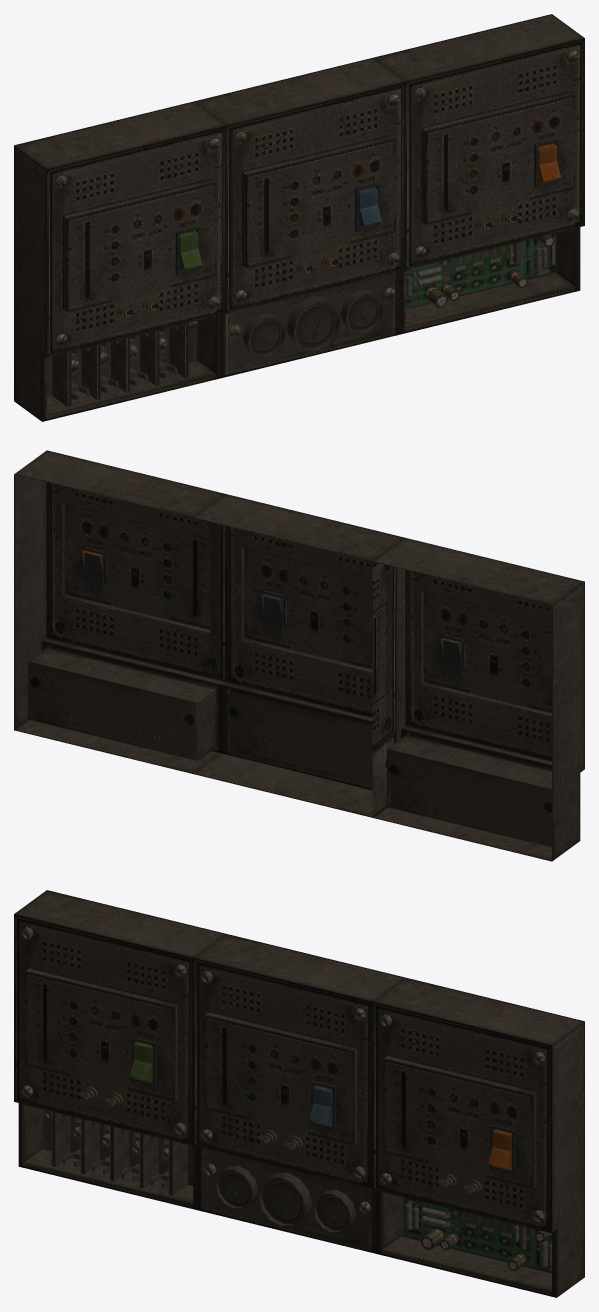
The model's file is panel_etx_2_2.glb.
The picture shows the model from 3 angles, top to bottom: view 1: azimuth 30°, elevation 25°; view 2: azimuth 150°, elevation 25°; view 3: azimuth 330°, elevation 25°; orthographic projection.
Visible parts, largest first — view 1: panel_etx_2_2; view 2: panel_etx_2_2; view 3: panel_etx_2_2.
Boxes of the visible parts, x1,y1,x2,y2 form: panel_etx_2_2: (14, 14, 584, 421); panel_etx_2_2: (14, 450, 584, 861); panel_etx_2_2: (14, 890, 584, 1297).
Size of the model in its own units: 1.32 by 0.6 by 0.1866.
2 materials, 2 textured.
